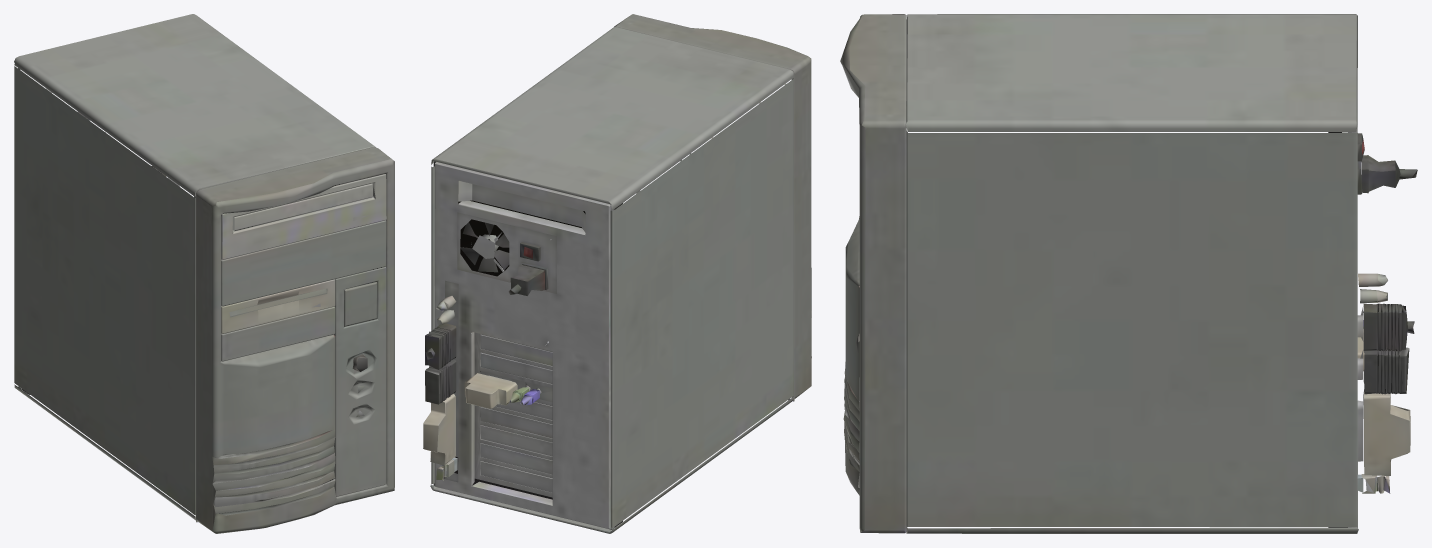
The model's file is SM_ComputerTower_A01_N1.glb.
The picture shows the model from 3 angles, left to right: view 1: azimuth 30°, elevation 25°; view 2: azimuth 150°, elevation 25°; view 3: azimuth 270°, elevation 25°; orthographic projection. The views are drawn at different scales.
Parts seen in each view (by area): view 1: SM_ComputerTower_A01_N1; view 2: SM_ComputerTower_A01_N1; view 3: SM_ComputerTower_A01_N1.
Part boxes in pixels (left/top/right/bottom): SM_ComputerTower_A01_N1: left=14, top=14, right=394, bottom=533; SM_ComputerTower_A01_N1: left=423, top=14, right=811, bottom=533; SM_ComputerTower_A01_N1: left=840, top=14, right=1417, bottom=533.
Bounding box in the file's own units: 0.1999 × 0.3503 × 0.4408.
1 material, 1 textured.
